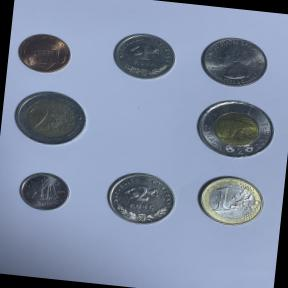1 Euro: (190, 170, 272, 232)
2 Euro: (8, 86, 93, 151)
Canda-10cent-: (15, 168, 75, 216)
Canda-2Dollar-: (188, 94, 281, 164)
Croatia-2Kune-: (99, 167, 182, 231)
US-1cent-: (13, 29, 77, 77)
US-25cent-: (195, 32, 274, 92)
